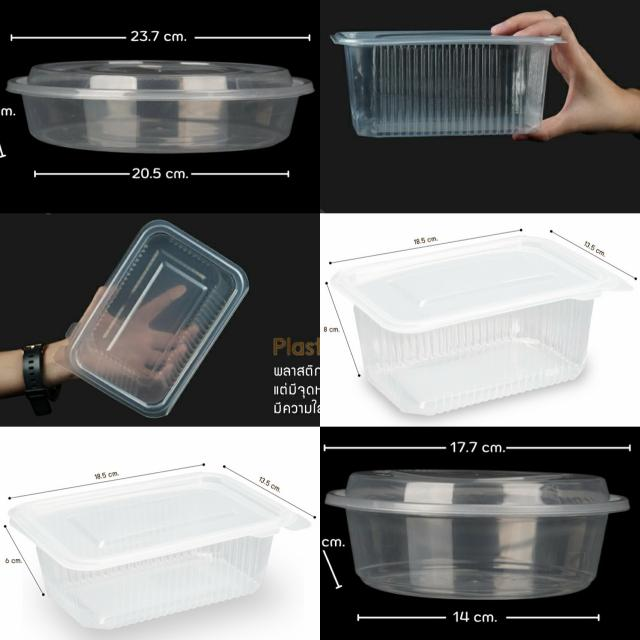plastik: (332, 236, 629, 415), (9, 472, 309, 629), (325, 470, 629, 600), (61, 220, 249, 418), (6, 60, 314, 153), (330, 31, 564, 138)
